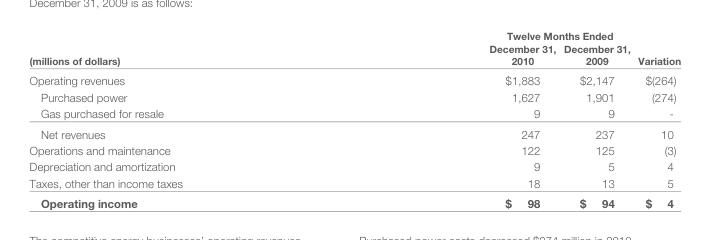table: (28, 29, 680, 209)
table column: (28, 29, 335, 209), (335, 29, 559, 209), (559, 29, 633, 209), (633, 29, 680, 209)
table column header: (28, 29, 680, 69)
table row: (28, 41, 680, 69), (28, 69, 680, 88), (28, 104, 680, 123), (28, 123, 680, 141), (28, 174, 680, 192), (28, 157, 680, 174), (28, 192, 680, 209), (28, 88, 680, 104), (28, 141, 680, 157), (28, 29, 680, 41)
table spanning cell: (28, 29, 335, 69), (335, 29, 633, 41), (633, 29, 680, 69)
